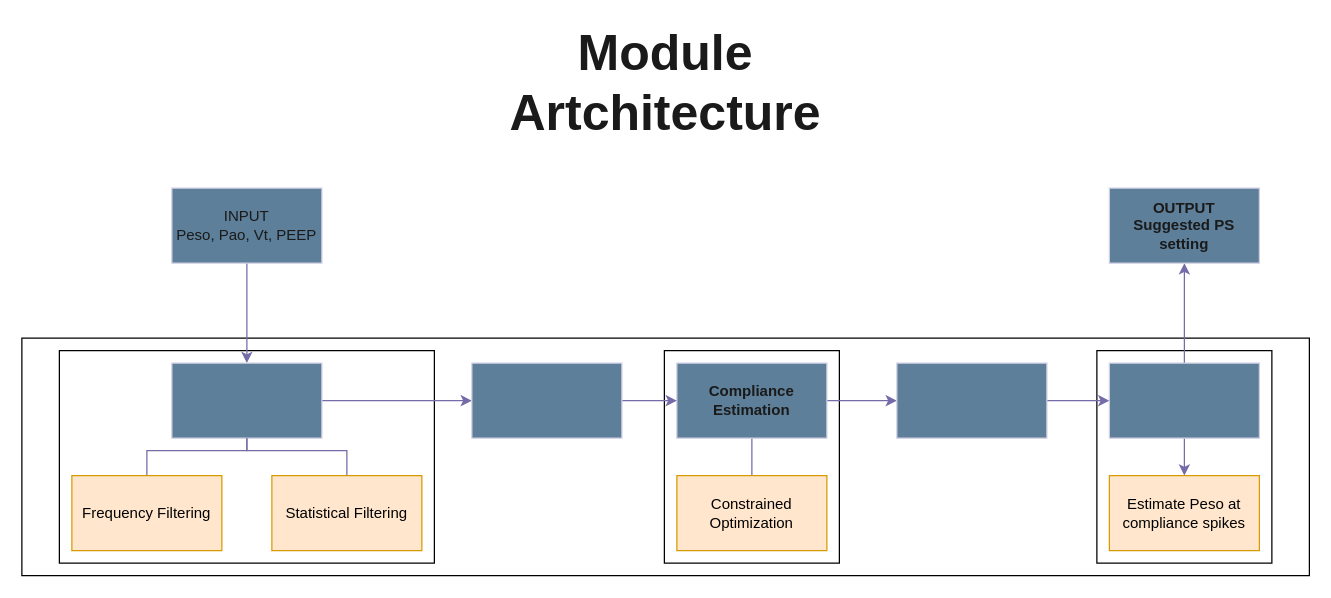
Some shapes in this 1331 by 598 pixel diagram are drawn without their labels. The shapes that lost their labels are listed below. From the top down, each one's centre as x and y in pixels, then its label:
At point 246,400: "Preprocessing Module".
At point 546,400: "Preprocessed Data".
At point 971,400: "Patient specific Peso relationship".
At point 1183,400: "Abnormal Compliance Detection".
